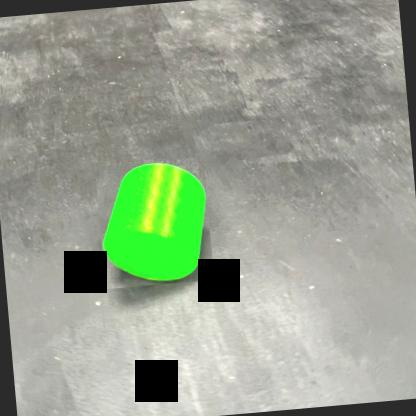green cylinder: (95, 157, 214, 289)
